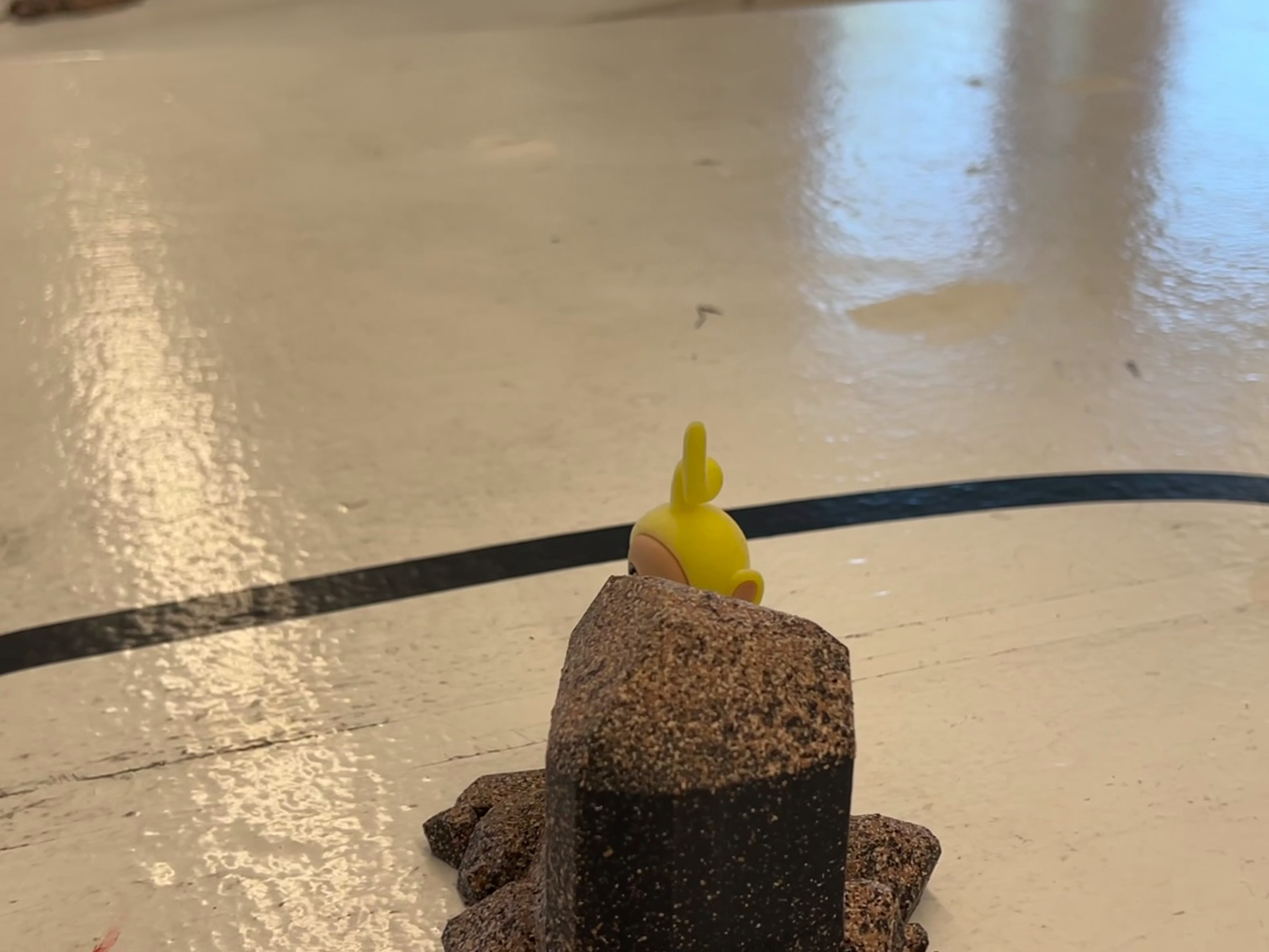teletubby: (627, 422, 764, 604)
